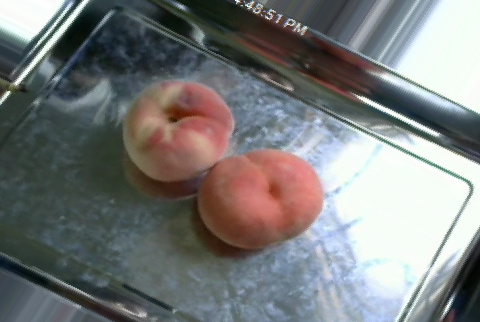Peach: (196, 149, 325, 249), (123, 79, 230, 182)
